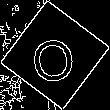O_N: (30, 26, 80, 84)
